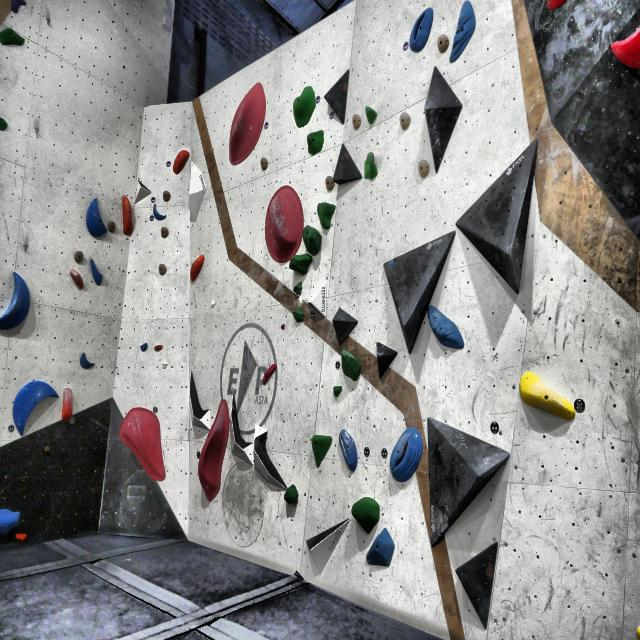Hold: (117, 407, 173, 487), (259, 183, 304, 265), (516, 366, 579, 424), (228, 81, 268, 169), (200, 393, 228, 506), (10, 379, 56, 437), (445, 3, 482, 63), (0, 269, 32, 331), (386, 430, 424, 482), (430, 307, 466, 353), (610, 23, 640, 75), (362, 528, 398, 570), (408, 3, 434, 54), (337, 424, 364, 471), (352, 497, 385, 532), (291, 87, 316, 128), (312, 431, 335, 475), (338, 347, 365, 382), (314, 197, 338, 236), (86, 197, 108, 239), (299, 224, 327, 255), (286, 252, 317, 275), (304, 131, 328, 160), (122, 192, 136, 238), (171, 147, 192, 177), (0, 503, 26, 526), (58, 386, 75, 421), (191, 248, 207, 285), (76, 349, 98, 372), (364, 149, 379, 182), (89, 257, 104, 286), (260, 365, 280, 385), (436, 32, 451, 58), (398, 110, 414, 134), (543, 0, 570, 14), (68, 268, 85, 290), (282, 486, 298, 508), (416, 158, 432, 178), (292, 280, 306, 299), (291, 304, 304, 324), (151, 204, 167, 219), (0, 114, 12, 132), (140, 338, 152, 354), (331, 384, 344, 398), (108, 219, 118, 236), (352, 114, 362, 131), (326, 172, 335, 189), (157, 261, 167, 275), (160, 190, 172, 201), (161, 226, 170, 240), (75, 249, 84, 262), (156, 340, 167, 348)
dbd: (364, 101, 380, 130)
